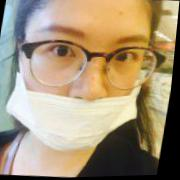WRONG: (13, 4, 153, 156)
